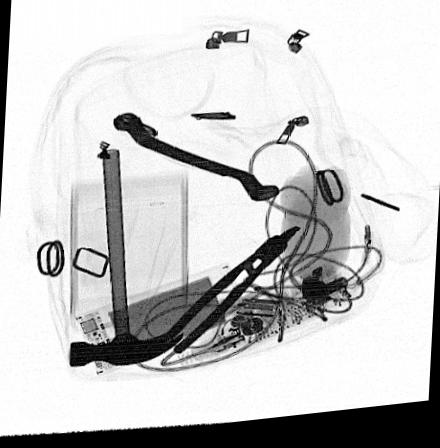Hammer: (70, 151, 183, 369)
Pliers: (166, 230, 301, 358)
Powerbank: (75, 268, 262, 393)
Wrench: (113, 114, 281, 208)
